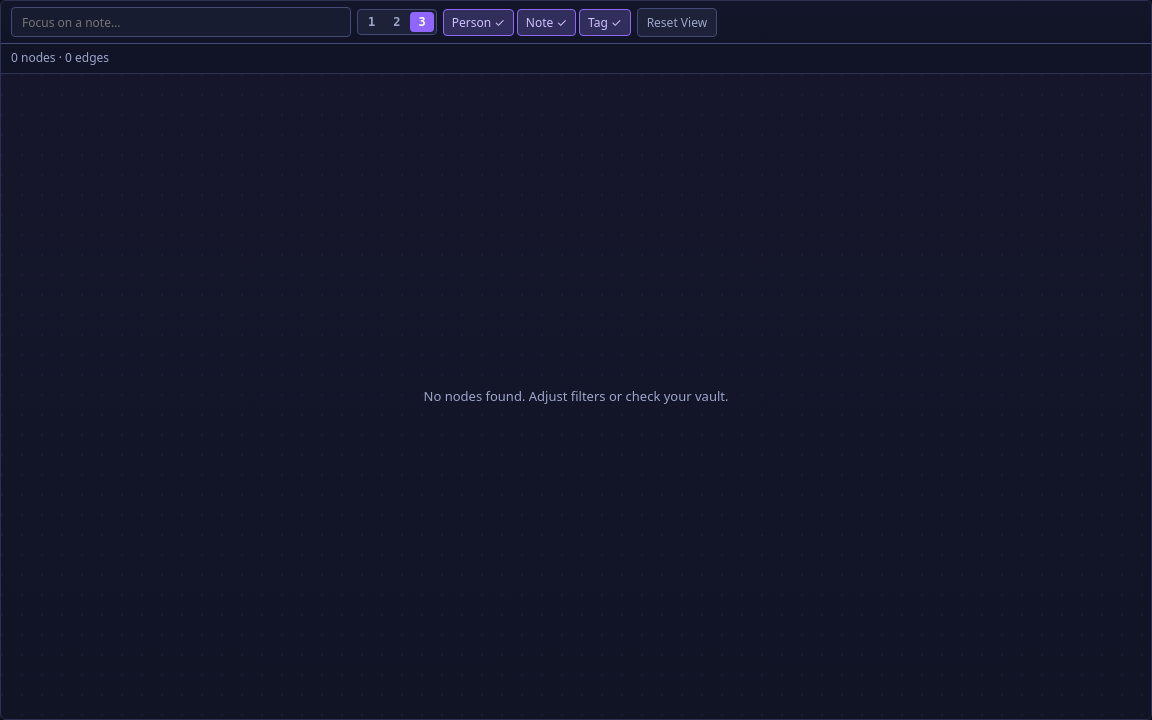
GraphScreen — focus input › shows autocomplete suggestions when typing
Type "Alice" into the field with test id "focus-input".
click(181, 22); type("Alice")  # box [11, 7, 351, 37]
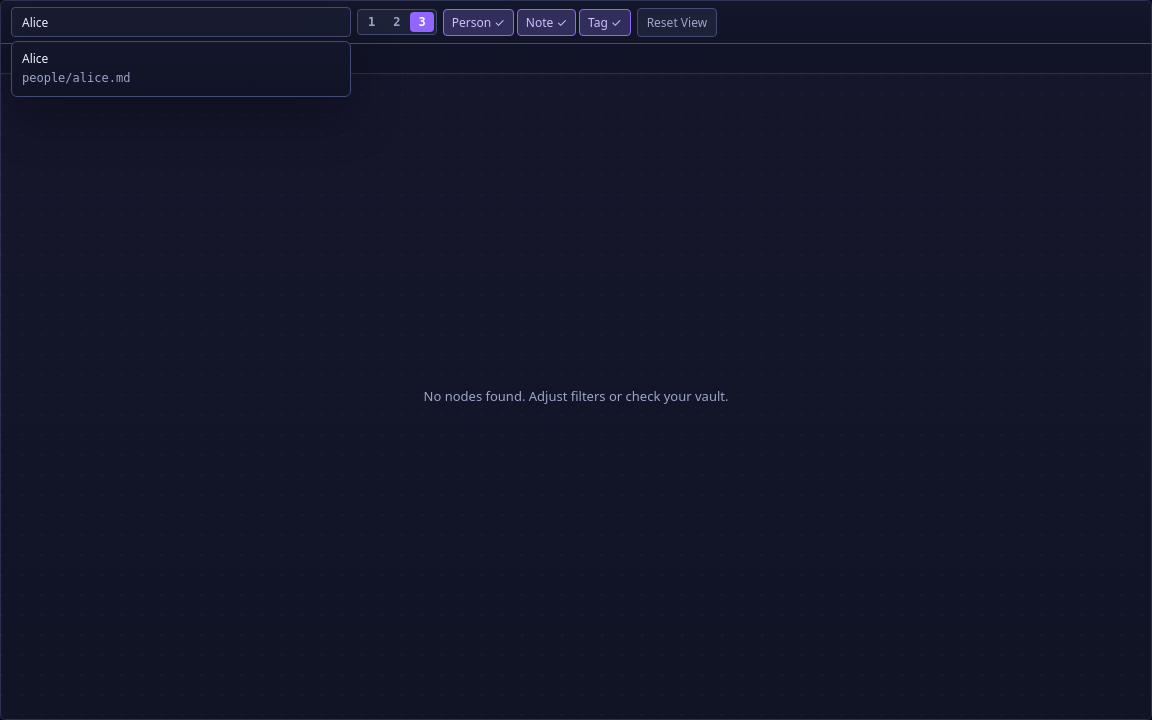
Now the list with test id "focus-suggestions" is shown, box [11, 41, 351, 97]
Now the list item with test id "suggestion-item" is shown, box [22, 50, 130, 85]
